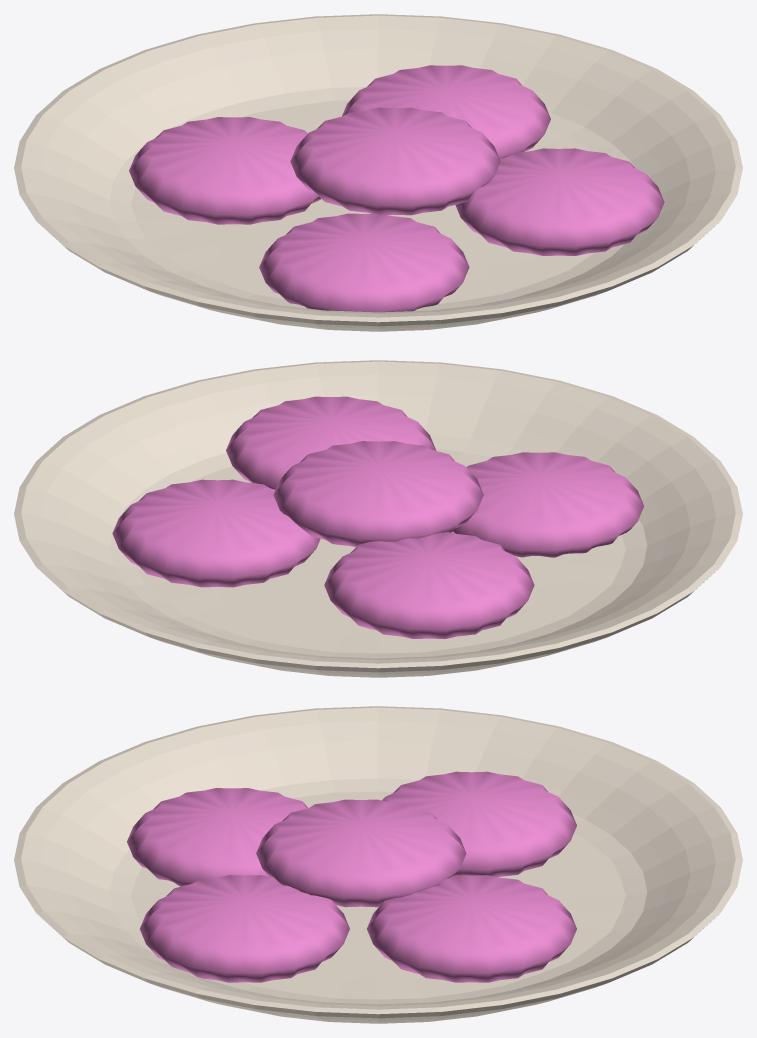
Rendered from carabikang.fbx.
3 renders of one model, top to bottom at view 1: azimuth 30°, elevation 25°; view 2: azimuth 150°, elevation 25°; view 3: azimuth 270°, elevation 25°, orthographic.
Visible parts, largest first — view 1: Cylinder, Cylinder.009, Cylinder.005, Cylinder.007, Cylinder.001, Cylinder.003; view 2: Cylinder, Cylinder.001, Cylinder.009, Cylinder.003, Cylinder.007, Cylinder.005; view 3: Cylinder, Cylinder.005, Cylinder.003, Cylinder.009, Cylinder.001, Cylinder.007.
Boxes of the visible parts, x1,y1,x2,y2 form: Cylinder: (14, 14, 742, 331); Cylinder.009: (290, 107, 500, 215); Cylinder.005: (455, 148, 664, 255); Cylinder.007: (259, 213, 469, 312); Cylinder.001: (129, 117, 321, 224); Cylinder.003: (342, 65, 550, 158); Cylinder: (14, 360, 742, 677); Cylinder.001: (324, 532, 534, 638); Cylinder.009: (273, 441, 483, 547); Cylinder.003: (112, 479, 320, 587); Cylinder.007: (452, 452, 643, 557); Cylinder.005: (226, 396, 436, 489); Cylinder: (14, 706, 742, 1023); Cylinder.005: (140, 875, 349, 982); Cylinder.003: (367, 875, 576, 982); Cylinder.009: (256, 799, 466, 907); Cylinder.001: (382, 771, 576, 877); Cylinder.007: (127, 788, 307, 886).
Size of the model in its own units: 231 by 33.07 by 231.
